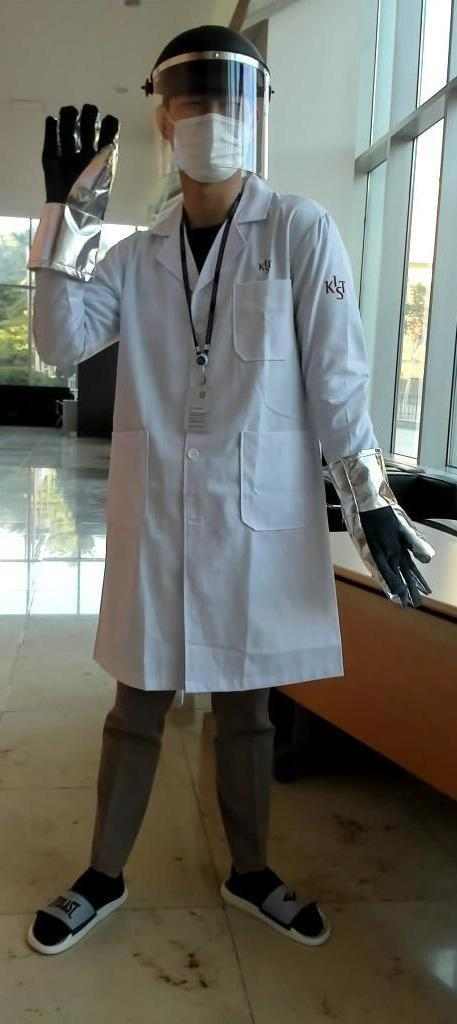lab_coat: (110, 204, 336, 709)
